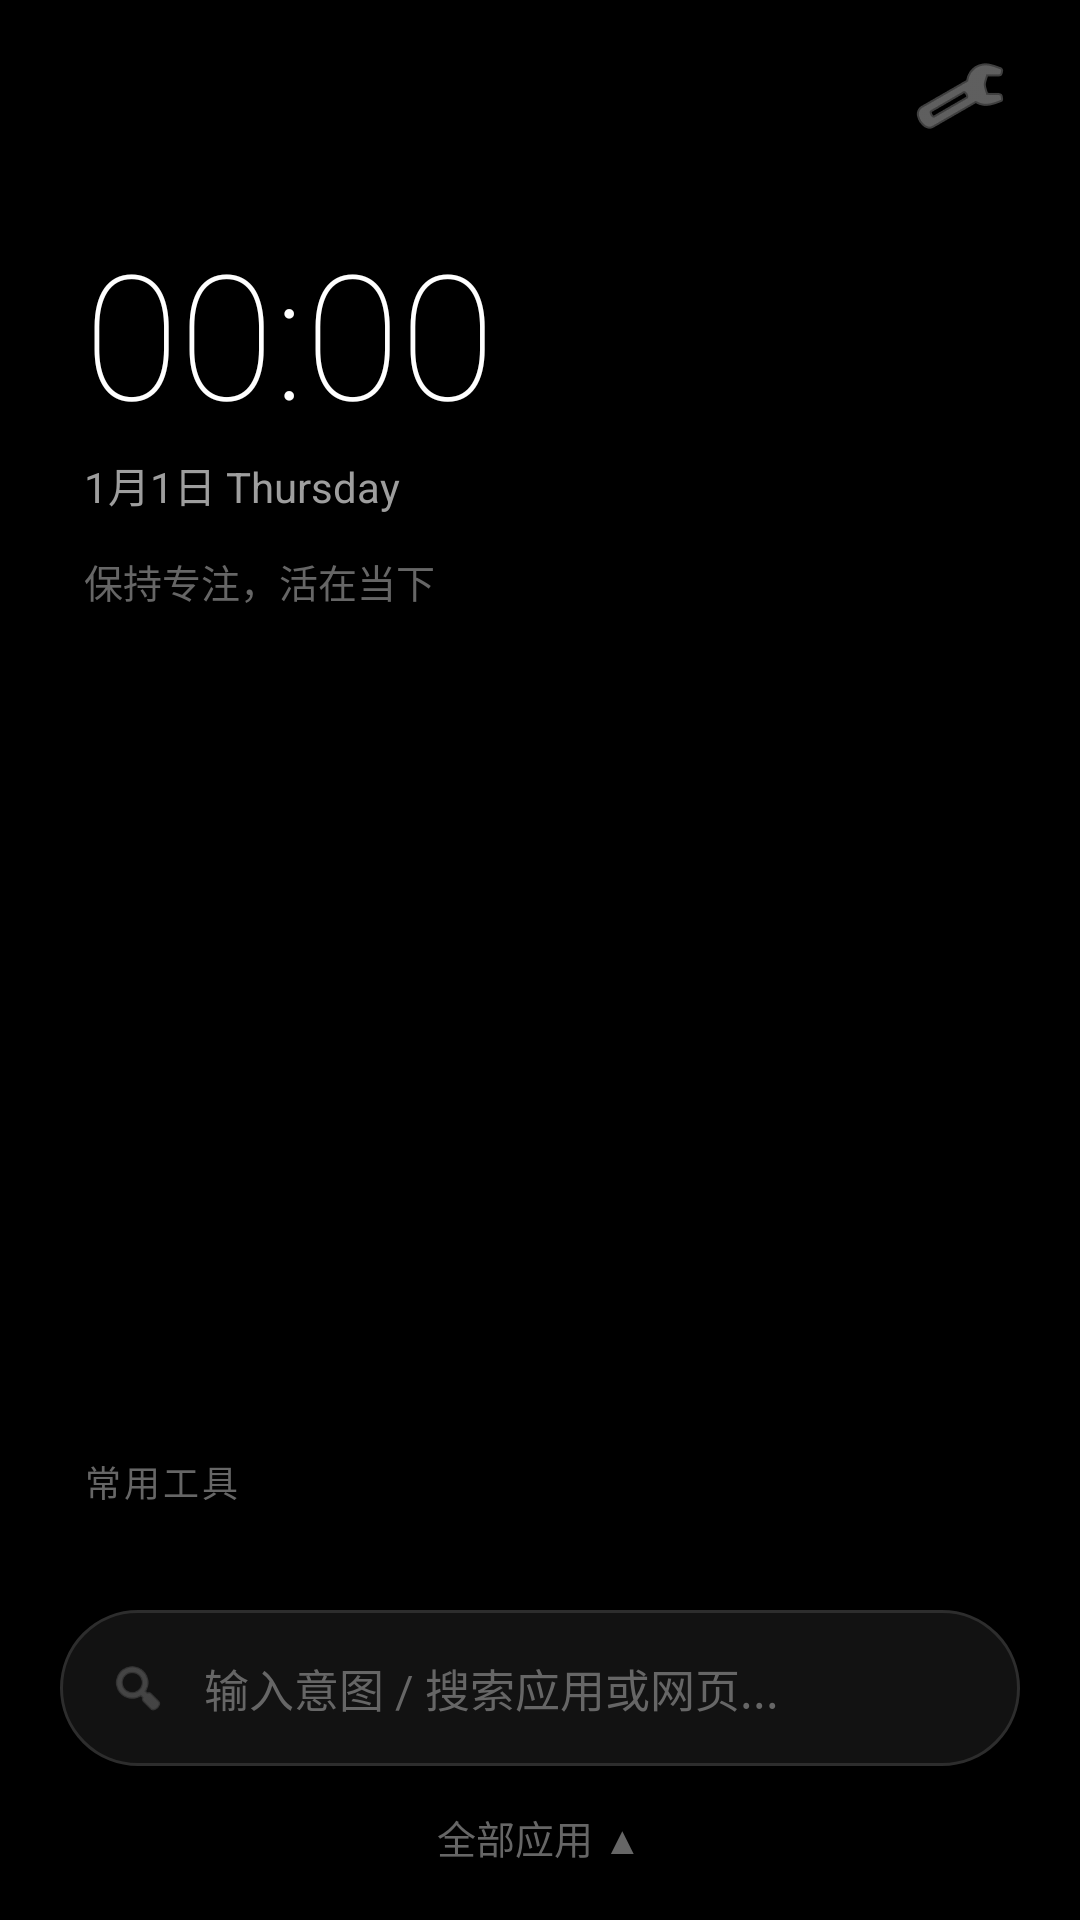

Locate icon controls on the screen. Image size 1080 x 1920, boxes as (left=x1, top=y1, right=x2, bottom=y2).
search: (left=116, top=1666, right=160, bottom=1710)
设置: (left=917, top=63, right=1003, bottom=129)
